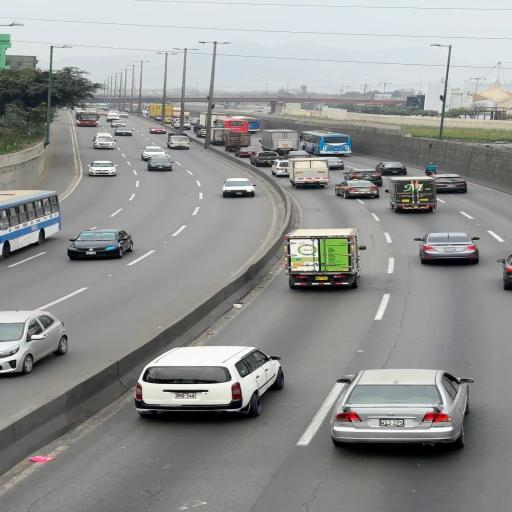auto: (327, 368, 468, 447), (136, 345, 282, 416), (1, 310, 69, 375), (66, 228, 134, 260), (416, 232, 480, 264), (336, 182, 381, 199), (432, 173, 468, 194), (221, 178, 256, 197), (345, 169, 384, 185), (250, 150, 280, 166), (86, 160, 116, 176), (375, 162, 407, 176), (139, 146, 168, 161), (146, 156, 174, 171), (270, 159, 290, 176), (321, 156, 345, 170), (234, 146, 260, 158), (92, 138, 116, 149), (167, 135, 190, 146), (94, 132, 113, 143), (172, 120, 192, 130), (148, 126, 166, 134), (115, 124, 132, 131), (196, 128, 206, 138), (118, 112, 128, 119), (190, 118, 200, 125)
bus: (283, 227, 363, 288), (385, 176, 439, 213), (286, 158, 332, 188), (259, 128, 300, 155), (204, 126, 236, 148), (198, 112, 228, 129), (148, 103, 174, 119)
camion: (425, 164, 438, 175)
moto: (0, 189, 62, 258), (301, 130, 352, 156), (220, 116, 260, 133), (74, 110, 100, 126), (130, 102, 152, 114), (106, 110, 120, 121), (172, 110, 188, 119), (95, 103, 108, 111)
